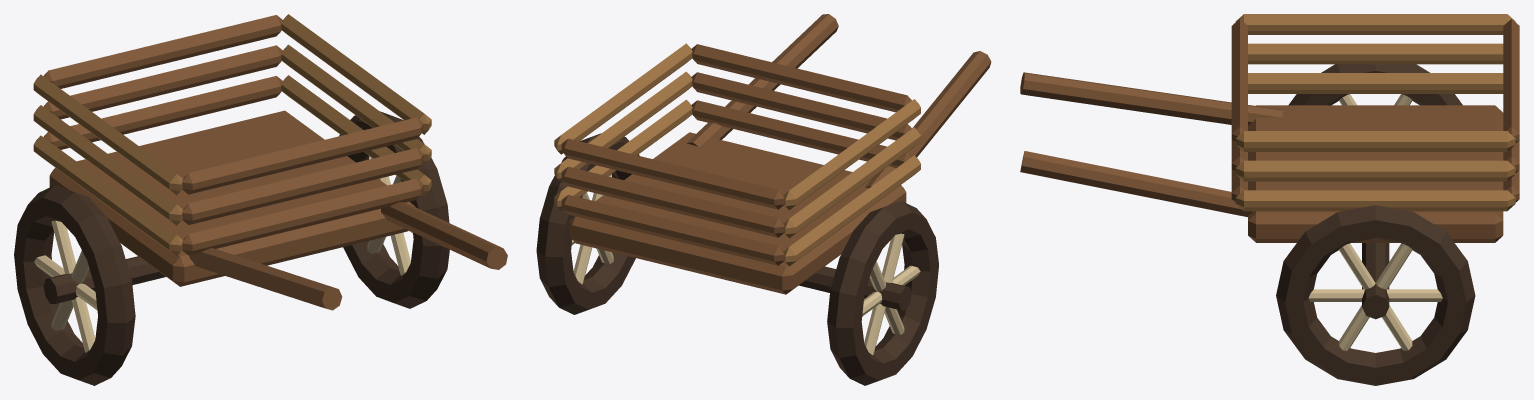
File: handcart.glb
The picture shows the model from 3 angles, left to right: view 1: azimuth 30°, elevation 25°; view 2: azimuth 150°, elevation 25°; view 3: azimuth 270°, elevation 25°; orthographic projection. The views are drawn at different scales.
Parts seen in each view (by area): view 1: Handcart; view 2: Handcart; view 3: Handcart.
Boxes of the visible parts, x1,y1,x2,y2 form: Handcart: (14, 14, 507, 385); Handcart: (536, 14, 991, 385); Handcart: (1020, 14, 1519, 385).
Bounding box in the file's own units: 1.5 × 0.9695 × 1.84.
